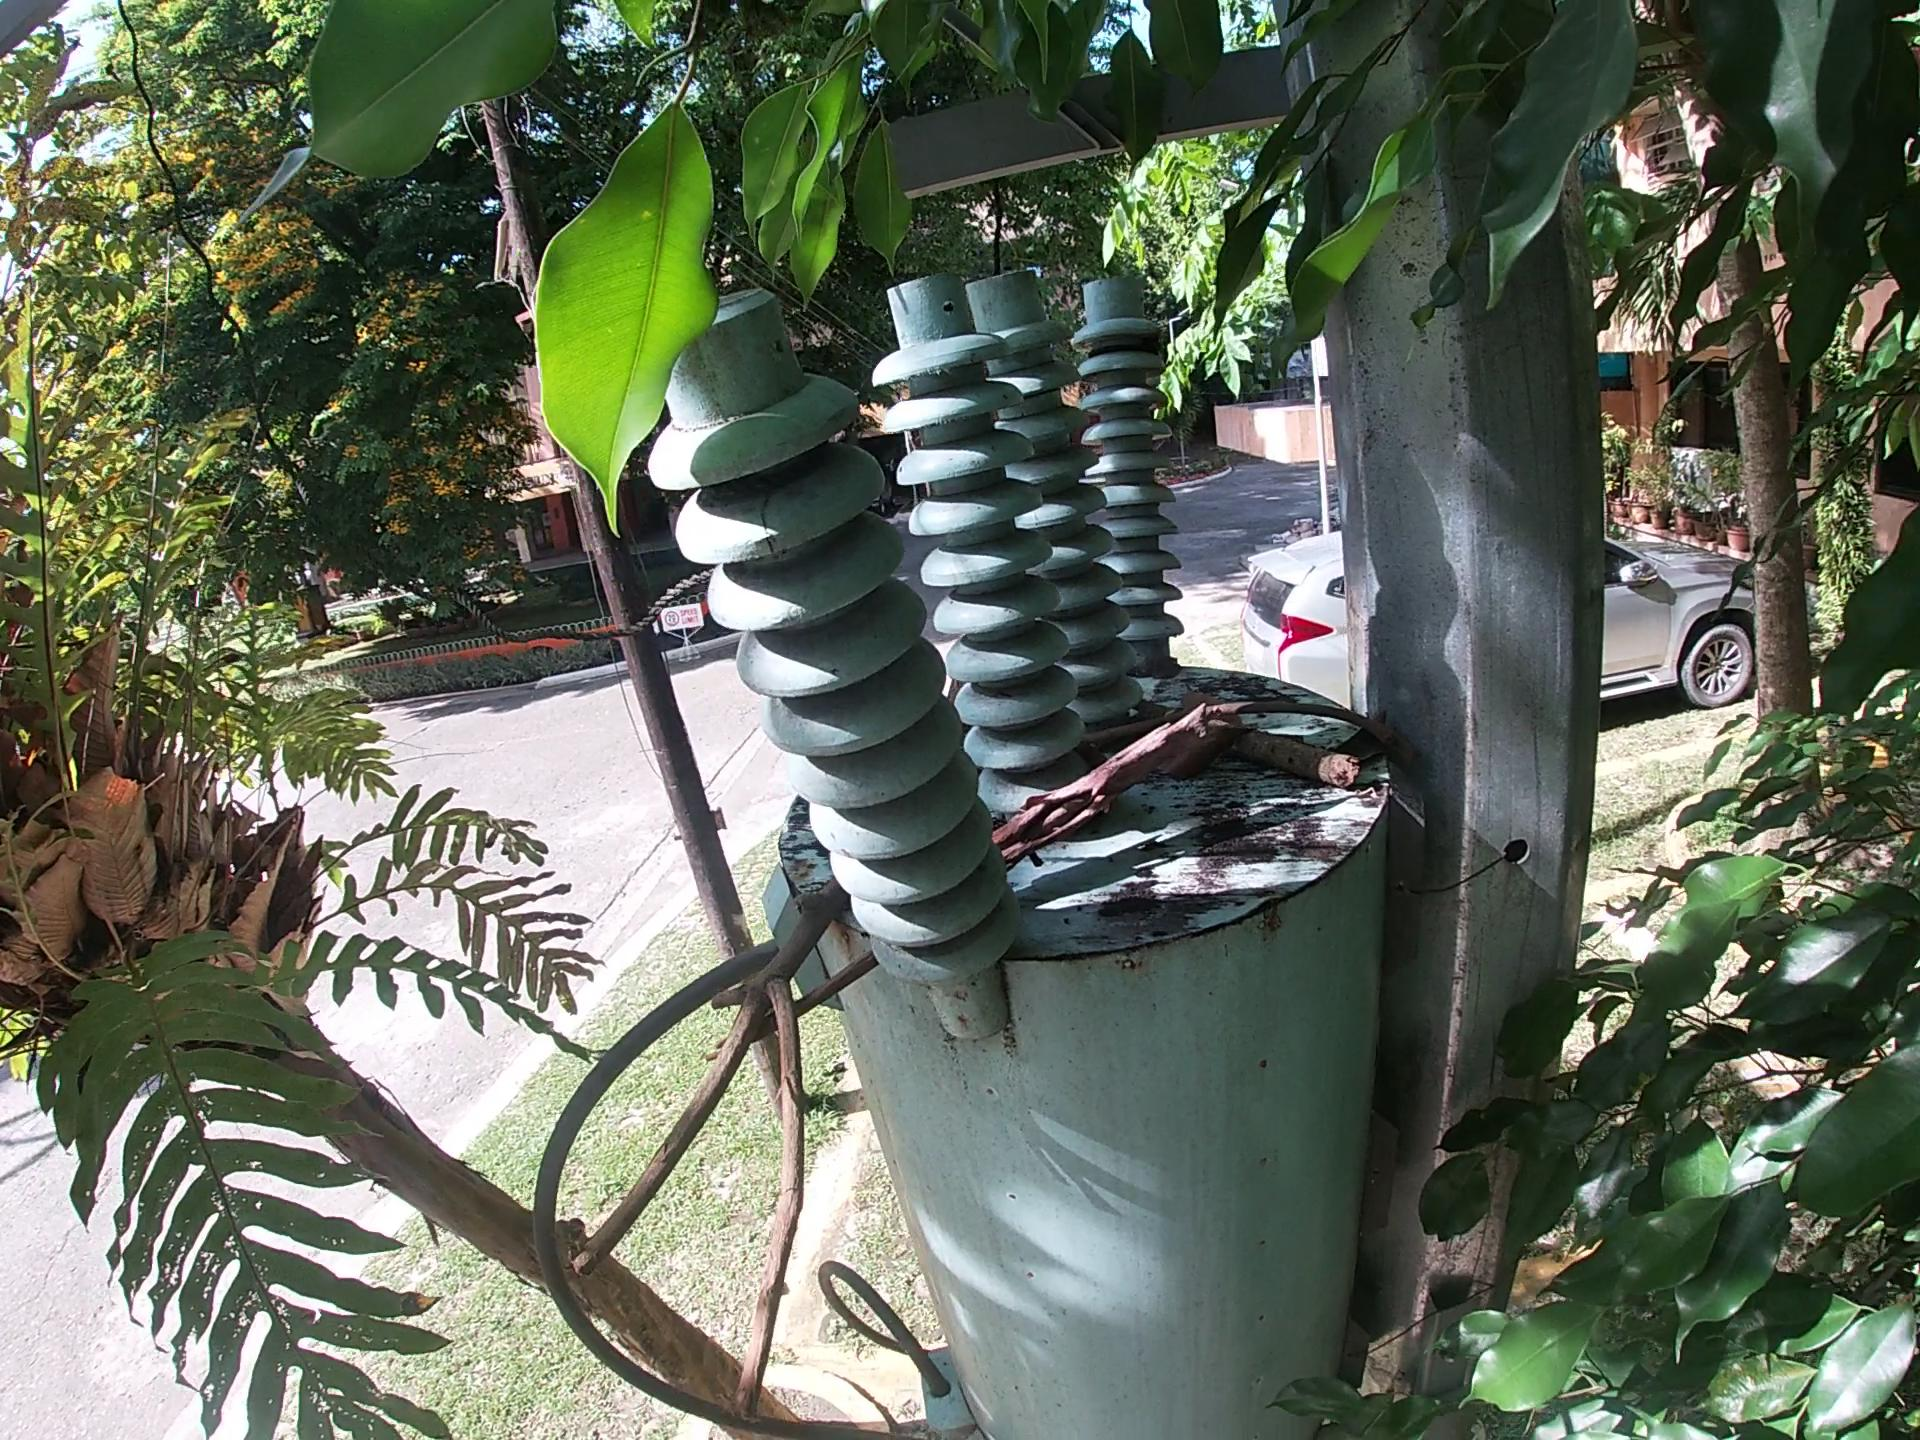leaf: (1178, 682, 1232, 711)
tree branch: (565, 885, 872, 1429), (990, 709, 1250, 871), (1126, 700, 1371, 806), (1089, 700, 1401, 746), (940, 667, 958, 700)
